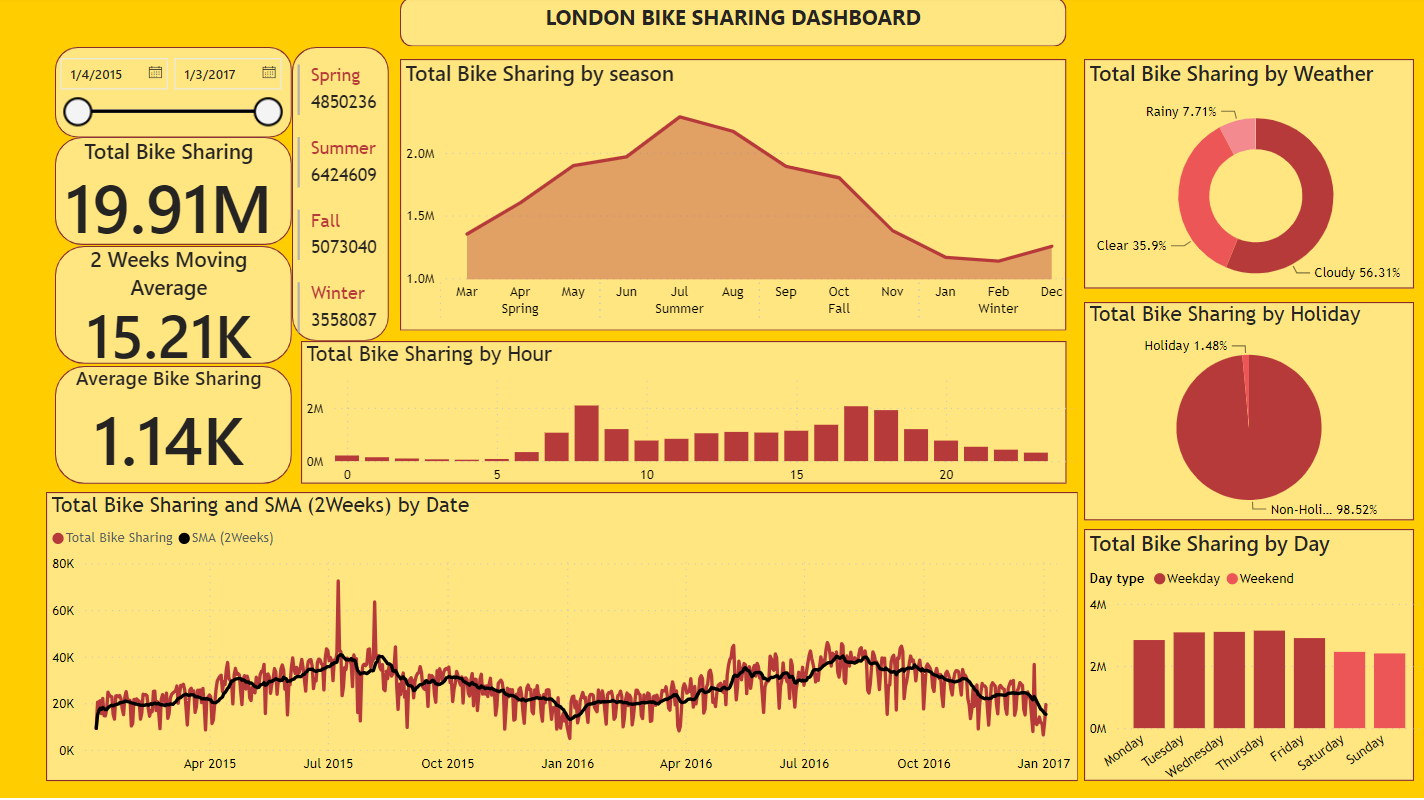

This screenshot's page, from the dashboard's own definition file:
{"tool":"powerbi","page":{"name":"Key Insights","canvas":[1280,720],"ordinal":0},"visuals":[{"type":"shape","box":[0,0,1280,720],"z":0},{"type":"shape","box":[263.3,44.4,86.7,263.3],"z":1000},{"type":"shape","box":[972.2,55.6,295.6,205.6],"z":2000},{"type":"shape","box":[972.2,273.3,295.6,195.6],"z":3000},{"type":"shape","box":[972.2,476.7,295.6,225.6],"z":4000},{"type":"shape","box":[43.3,443.3,924.4,258.9],"z":5000},{"type":"shape","box":[360,55.6,596.7,243.3],"z":6000},{"type":"shape","box":[271.1,307.8,685.6,127.8],"z":7000},{"type":"shape","box":[51.1,125.6,212.2,96.7],"z":8000},{"type":"shape","box":[51.1,223.3,212.2,105.6],"z":9000},{"type":"shape","box":[51.1,330,212.2,105.6],"z":10000},{"type":"shape","box":[51.1,44.4,212.2,81.1],"z":11000},{"type":"slicer","fields":{"Values":["Calendar.Date"]},"box":[43.3,44.4,220,81.1],"z":12000},{"type":"card","title":"Total Bike Sharing","fields":{"Values":["My measure.Total Bike Sharing"]},"box":[43.3,125.6,220,95.6],"z":13000},{"type":"multiRowCard","fields":{"Values":["london_merged.season name","Sum(london_merged.cnt)"]},"box":[263.3,55.6,137.8,273.3],"z":14000},{"type":"areaChart","title":"Total Bike Sharing by season","fields":{"Category":["london_merged.season name","Calendar.Month"],"Y":["My measure.Total Bike Sharing"]},"box":[360,55.6,607.8,243.3],"z":15000},{"type":"donutChart","title":"Total Bike Sharing by Weather","fields":{"Y":["My measure.Total Bike Sharing"],"Category":["london_merged.Weather Group"]},"box":[972.2,55.6,307.8,220],"z":16000},{"type":"pieChart","fields":{"Category":["london_merged.Holiday"],"Y":["My measure.Total Bike Sharing"]},"box":[972.2,272.2,295.6,204.4],"z":17000},{"type":"columnChart","title":"Total Bike Sharing by Day","fields":{"Category":["london_merged.Day"],"Series":["london_merged.Day type"],"Y":["My measure.Total Bike Sharing"]},"box":[972.2,476.7,307.8,243.3],"z":18000},{"type":"lineChart","fields":{"Category":["Calendar.Date"],"Y":["My measure.Total Bike Sharing","My measure.SMA (2Weeks)"]},"box":[43.3,443.3,924.4,258.9],"z":19000},{"type":"card","title":"2 Weeks Moving Average","fields":{"Values":["My measure.SMA (2Weeks)"]},"box":[43.3,222.2,220,106.7],"z":20000},{"type":"columnChart","fields":{"Category":["london_merged.Hours"],"Y":["My measure.Total Bike Sharing"]},"box":[271.1,307.8,701.1,135.6],"z":21000},{"type":"card","title":"Average Bike Sharing","fields":{"Values":["My measure.Daily average"]},"box":[43.3,328.9,220,106.7],"z":22000},{"type":"shape","box":[360,0,596.7,44.4],"z":23000},{"type":"textbox","box":[360,0,596.7,44.4],"z":24000}]}

Visuals, with their boxes in screenshot pixels (x1, y1, x2, y2), scaled from the page's 1280x720 canvas onto the 1424x800 screenshot:
shape: Rect(0, 0, 1423, 799)
shape: Rect(293, 49, 389, 342)
shape: Rect(1082, 62, 1410, 290)
shape: Rect(1082, 304, 1410, 521)
shape: Rect(1082, 530, 1410, 780)
shape: Rect(48, 493, 1077, 780)
shape: Rect(400, 62, 1064, 332)
shape: Rect(302, 342, 1064, 484)
shape: Rect(57, 140, 293, 247)
shape: Rect(57, 248, 293, 365)
shape: Rect(57, 367, 293, 484)
shape: Rect(57, 49, 293, 139)
slicer - Calendar.Date: Rect(48, 49, 293, 139)
"Total Bike Sharing" card: Rect(48, 140, 293, 246)
multiRowCard - london_merged.season name x Sum(london_merged.cnt): Rect(293, 62, 446, 365)
"Total Bike Sharing by season" areaChart: Rect(400, 62, 1077, 332)
"Total Bike Sharing by Weather" donutChart: Rect(1082, 62, 1423, 306)
pieChart - london_merged.Holiday x My measure.Total Bike Sharing: Rect(1082, 302, 1410, 530)
"Total Bike Sharing by Day" columnChart: Rect(1082, 530, 1423, 799)
lineChart - Calendar.Date x My measure.Total Bike Sharing: Rect(48, 493, 1077, 780)
"2 Weeks Moving Average" card: Rect(48, 247, 293, 365)
columnChart - london_merged.Hours x My measure.Total Bike Sharing: Rect(302, 342, 1082, 493)
"Average Bike Sharing" card: Rect(48, 365, 293, 484)
shape: Rect(400, 0, 1064, 49)
textbox: Rect(400, 0, 1064, 49)
